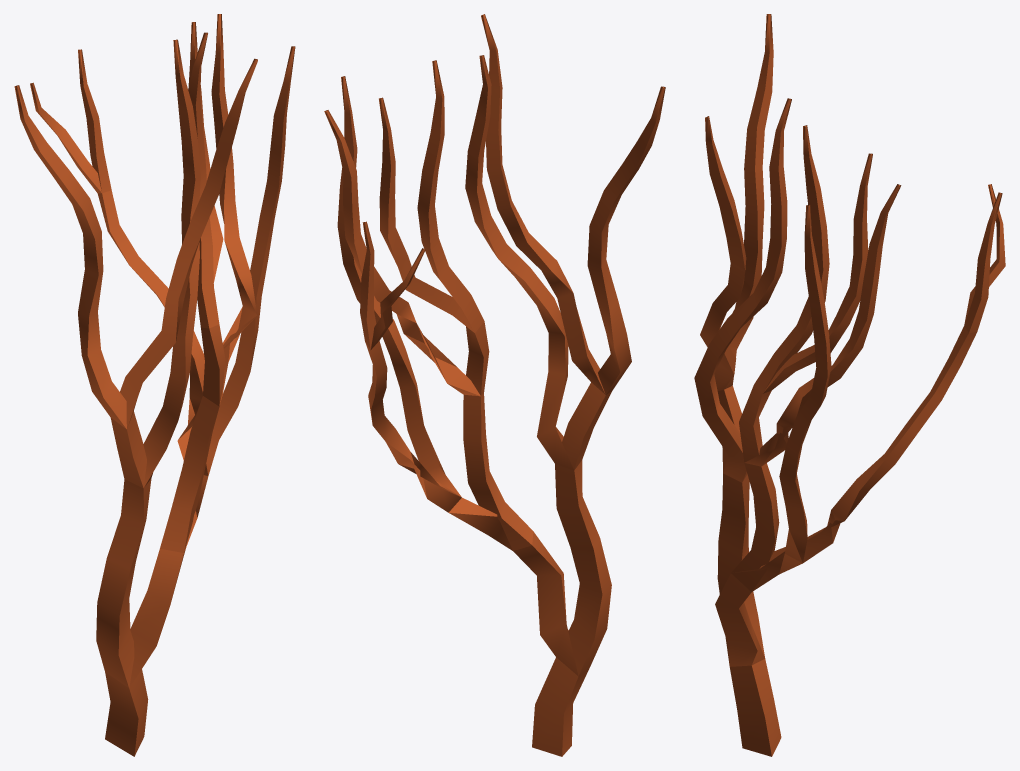
Rendered from coral_seagrass_D_raqam_ultralight.fbx.
3 views of the same model, side by side, from view 1: azimuth 30°, elevation 25°; view 2: azimuth 150°, elevation 25°; view 3: azimuth 270°, elevation 25° (orthographic).
Visible parts, largest first — view 1: coral_seagrass_D_raqam_ultralight; view 2: coral_seagrass_D_raqam_ultralight; view 3: coral_seagrass_D_raqam_ultralight.
Part boxes in pixels (x1,y1,x2,y2): coral_seagrass_D_raqam_ultralight: [14, 14, 295, 756]; coral_seagrass_D_raqam_ultralight: [324, 14, 665, 756]; coral_seagrass_D_raqam_ultralight: [694, 14, 1005, 756].
Size of the model in its own units: 61.57 by 135 by 55.56.
